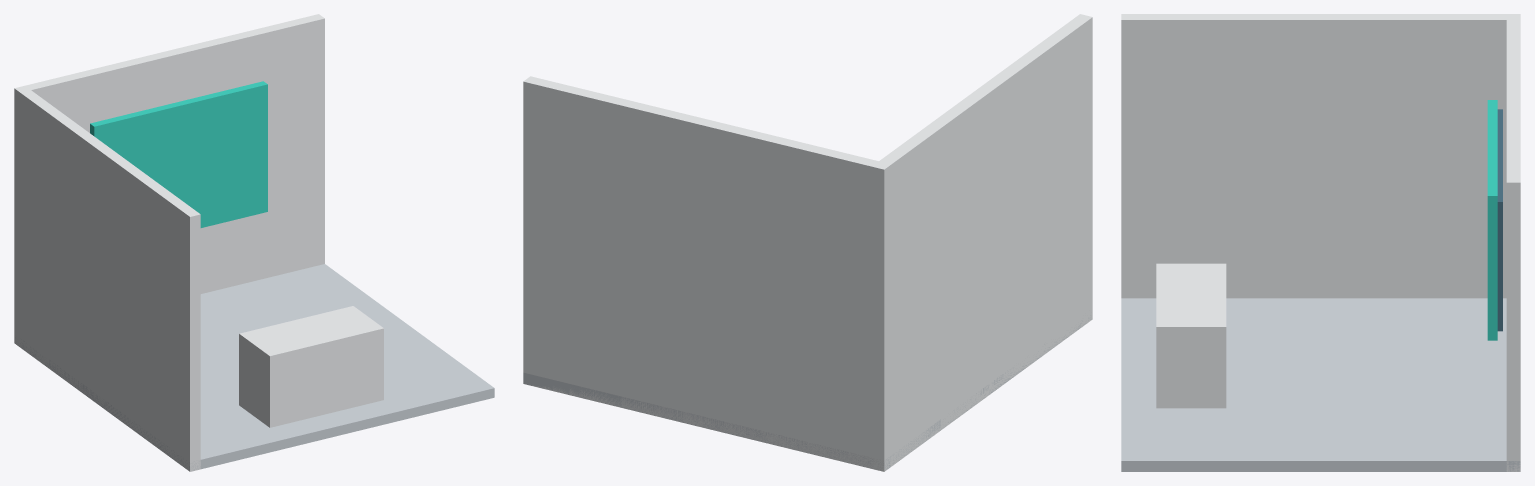
3 views of the same model, side by side, from view 1: azimuth 30°, elevation 25°; view 2: azimuth 150°, elevation 25°; view 3: azimuth 270°, elevation 25° (orthographic). The views are drawn at different scales.
Visible parts, largest first — view 1: Exhibition Booth Concept; view 2: Exhibition Booth Concept; view 3: Exhibition Booth Concept.
Part boxes in pixels (x1,y1,x2,y2): Exhibition Booth Concept: (14, 14, 494, 471); Exhibition Booth Concept: (523, 14, 1092, 471); Exhibition Booth Concept: (1121, 14, 1520, 471).
Size of the model in its own units: 4 by 3.2 by 4.
